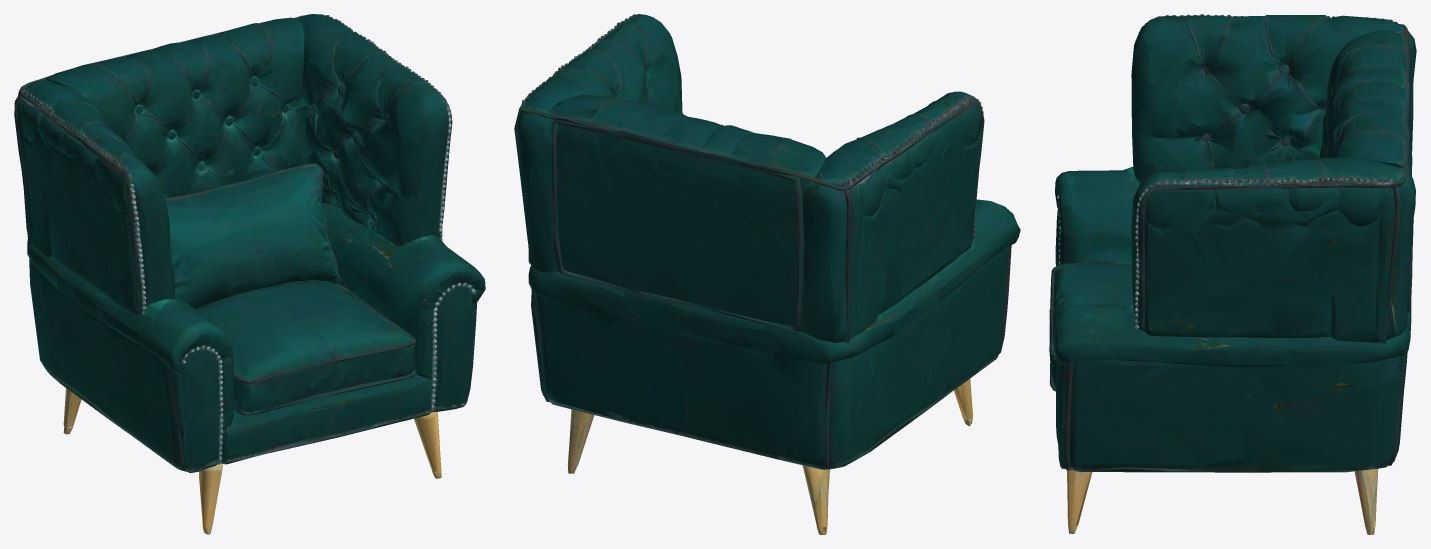
File: mx_hh_armchair.glb
The picture shows the model from 3 angles, left to right: view 1: azimuth 30°, elevation 25°; view 2: azimuth 150°, elevation 25°; view 3: azimuth 270°, elevation 25°; orthographic projection. The views are drawn at different scales.
Bounding box in the file's own units: 1.83 × 1.9 × 1.65.
1 material, 1 textured.
